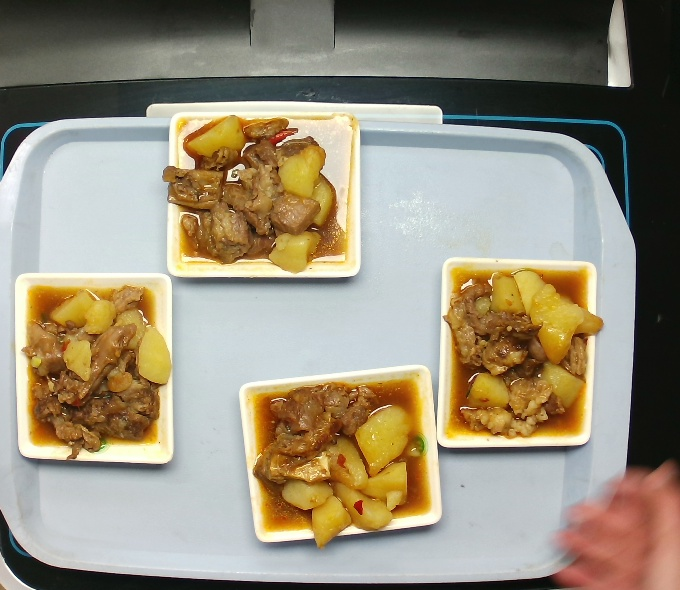wcq-TuDouNiuNan: (156, 112, 364, 280), (248, 375, 429, 549), (16, 284, 176, 462), (442, 271, 607, 439)
